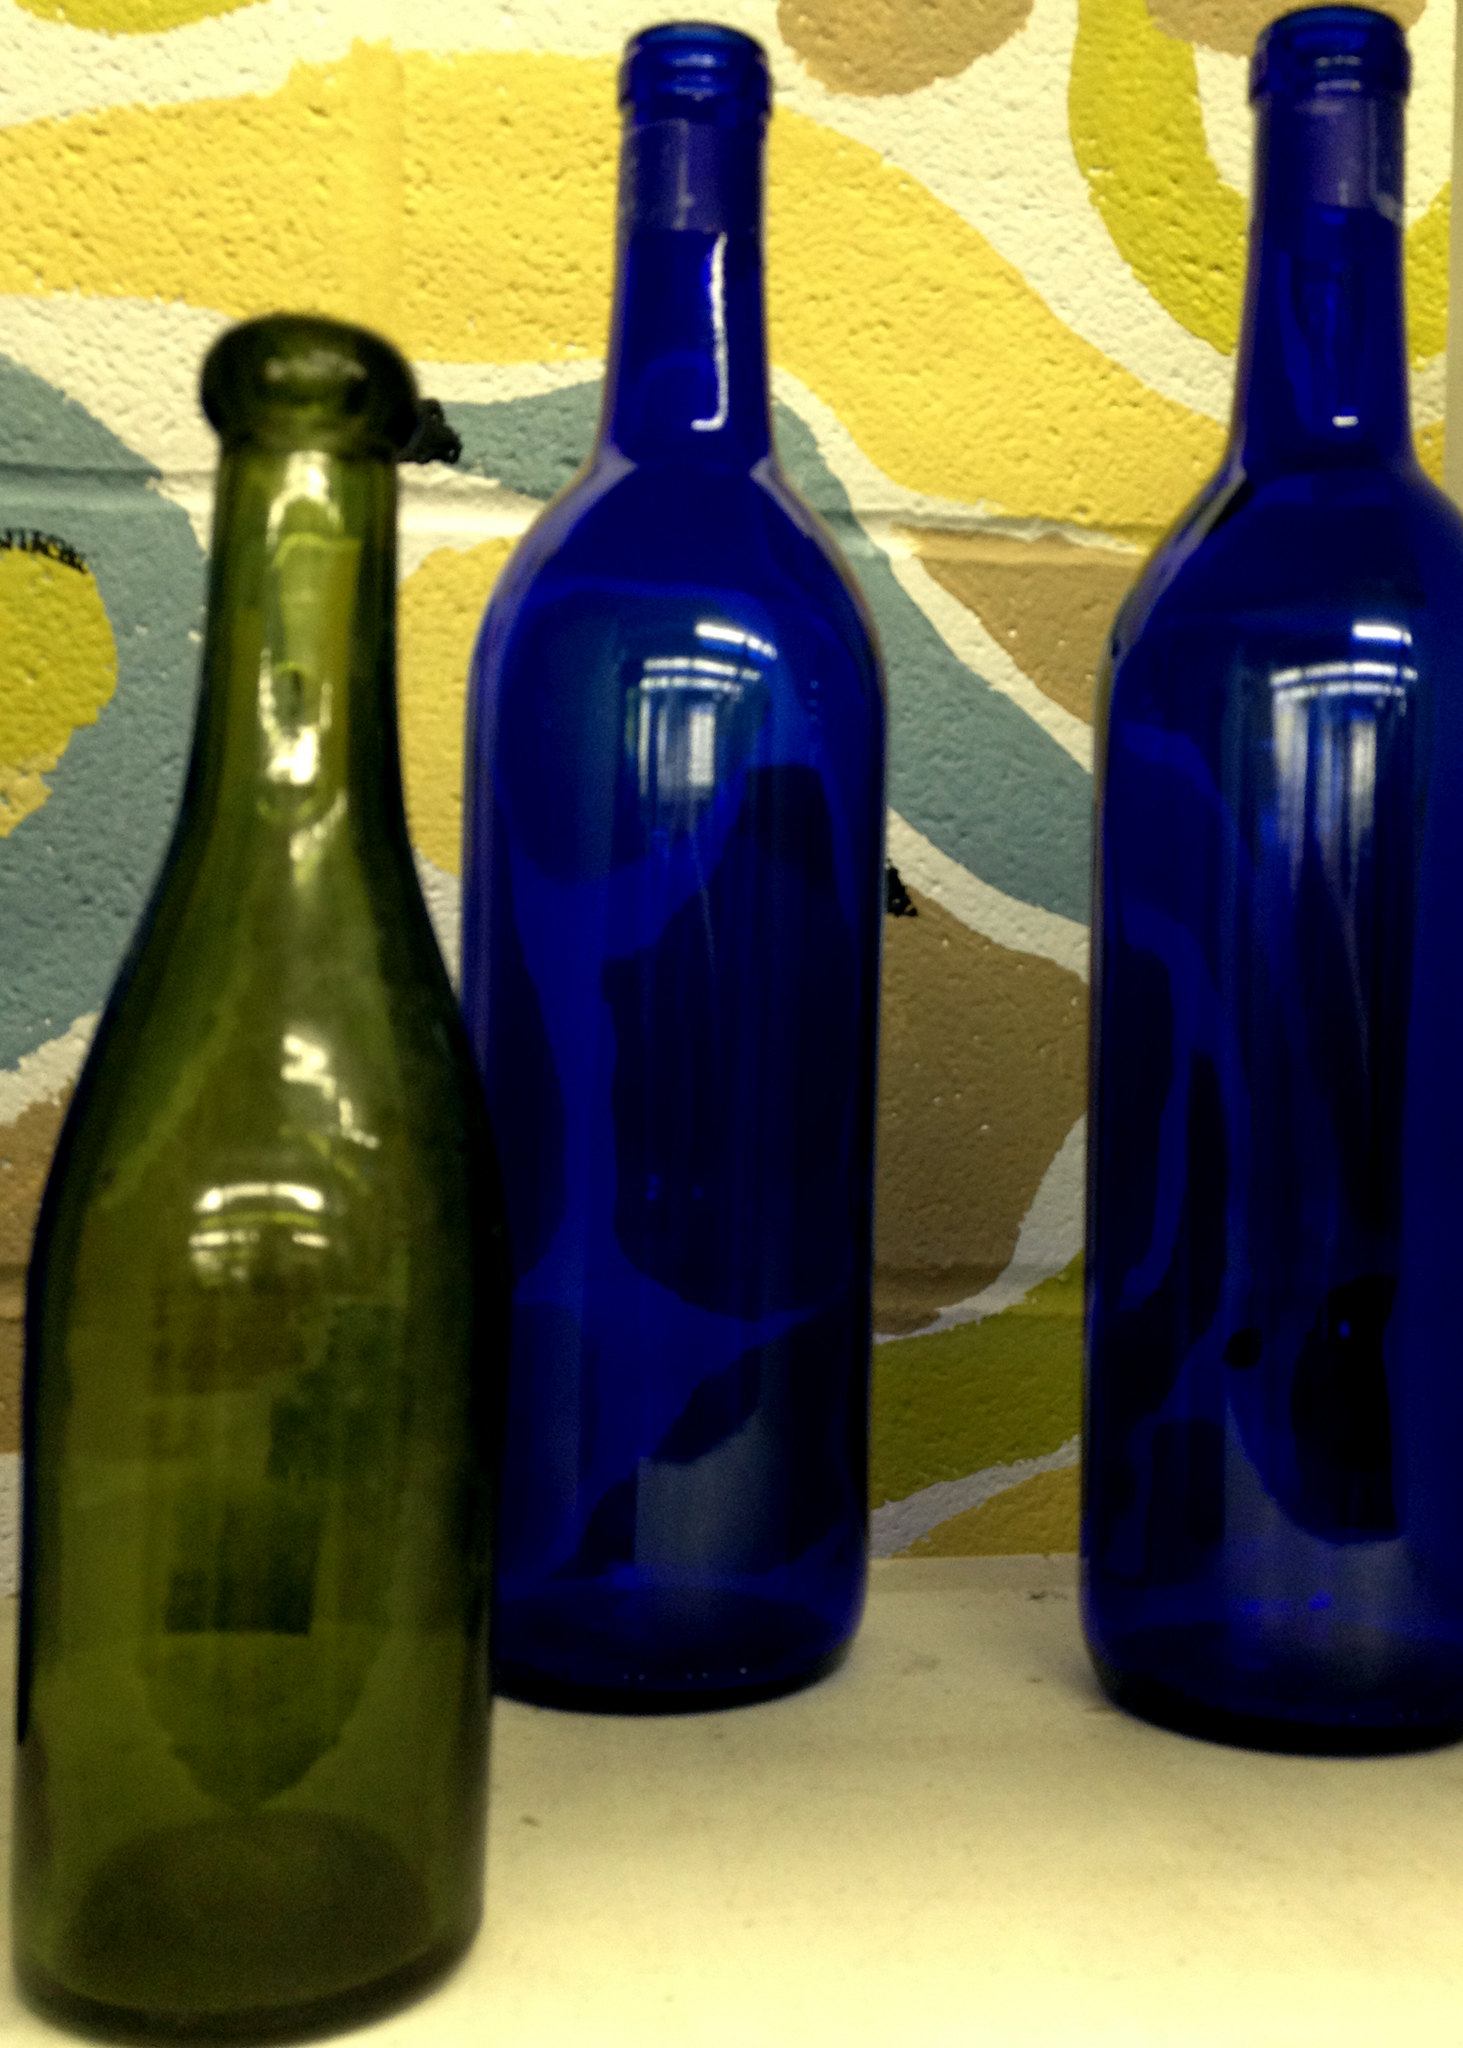bottle: (32, 307, 496, 2035), (467, 32, 910, 1722), (1088, 11, 1463, 1809)
